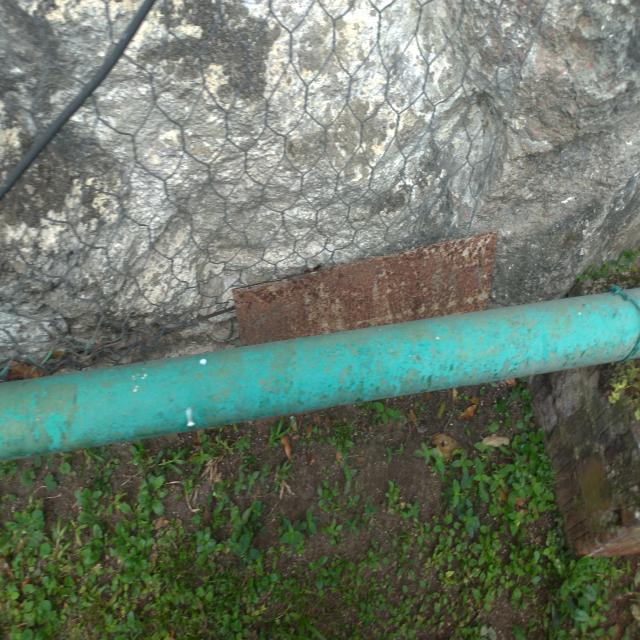gas: (0, 287, 640, 464)
